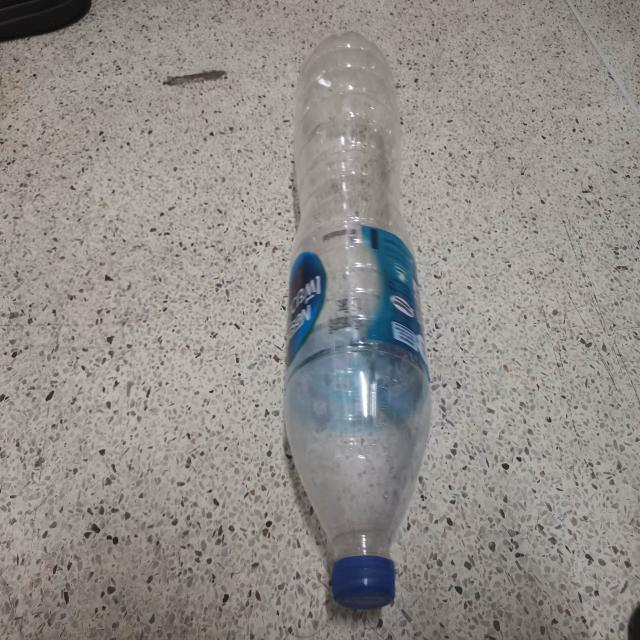plastic_bottle: (284, 32, 432, 609)
